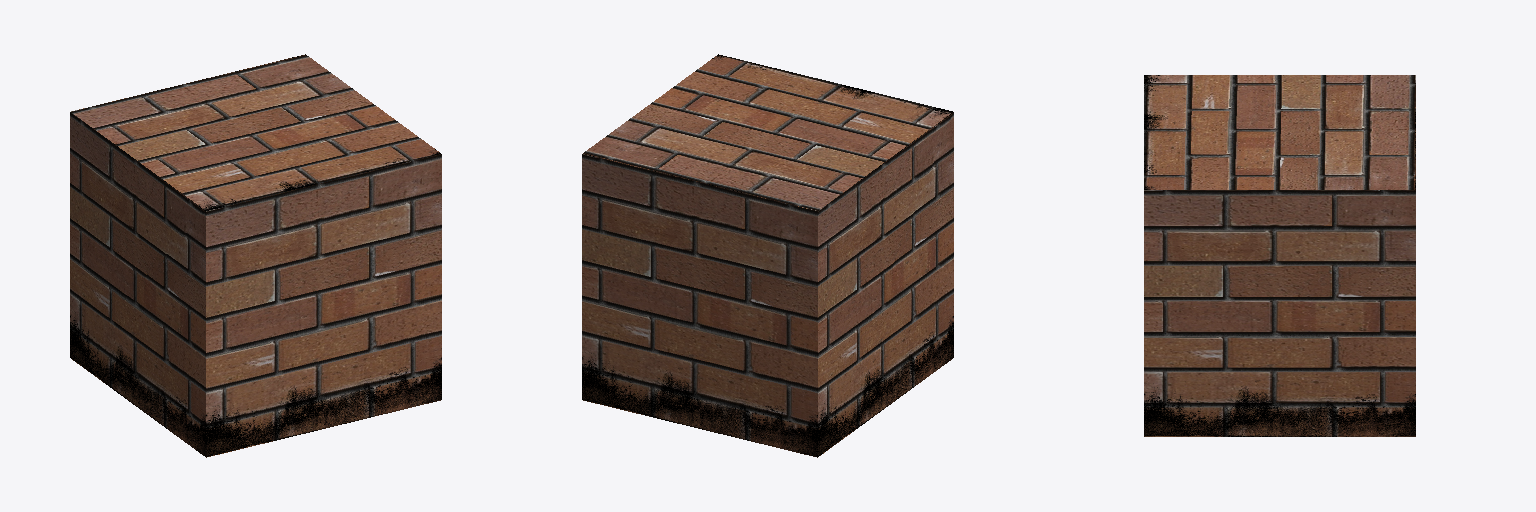
The picture shows the model from 3 angles: view 1: azimuth 30°, elevation 25°; view 2: azimuth 150°, elevation 25°; view 3: azimuth 270°, elevation 25°; orthographic projection.
Parts seen in each view (by area): view 1: Box002; view 2: Box002; view 3: Box002.
Part boxes in pixels (bbox=[...]): Box002: bbox=[70, 54, 441, 457]; Box002: bbox=[582, 54, 953, 457]; Box002: bbox=[1144, 75, 1415, 436].
Bounding box in the file's own units: 20 × 20 × 20.
Materials: 1 (1 with a texture image).